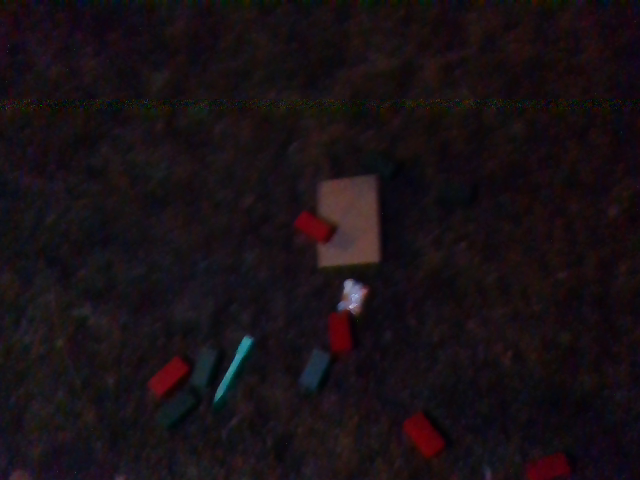Probe: (210, 327, 258, 402)
